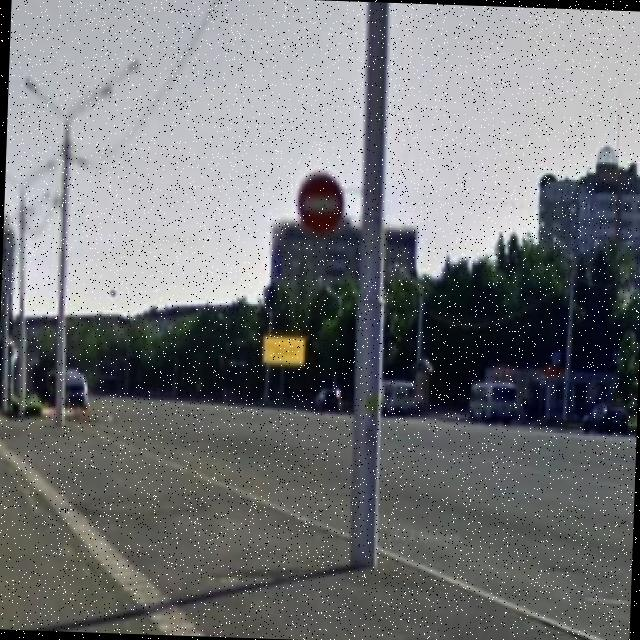Zakaz wjazdu: (294, 172, 348, 236)
